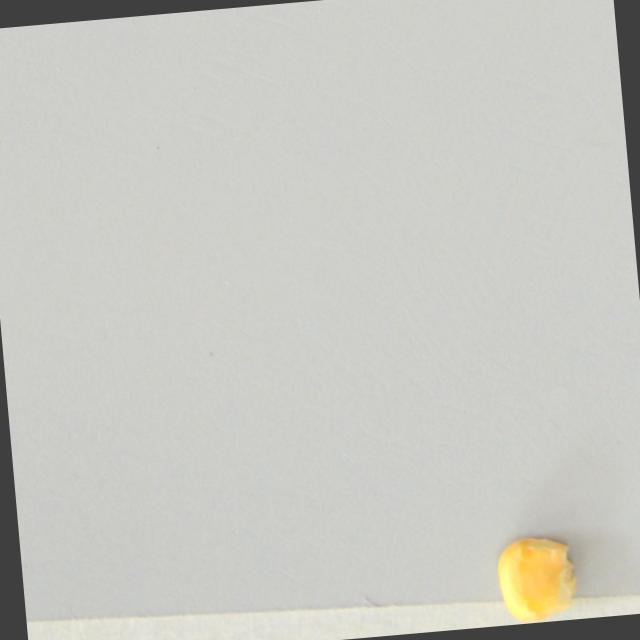pelicula: (493, 531, 579, 623)
